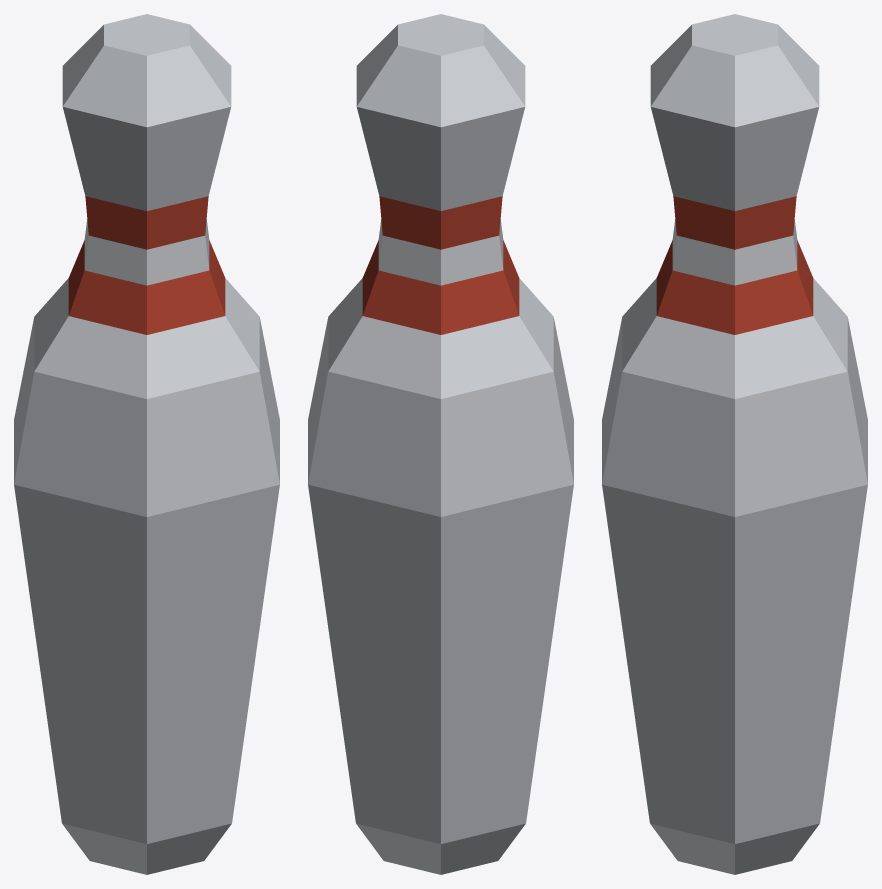
File: SM_Prop_Sign_BowlingPin_01.fbx
3 renders of one model, left to right at view 1: azimuth 30°, elevation 25°; view 2: azimuth 150°, elevation 25°; view 3: azimuth 270°, elevation 25°, orthographic.
Visible parts, largest first — view 1: SM_Prop_Sign_BowlingPin_01; view 2: SM_Prop_Sign_BowlingPin_01; view 3: SM_Prop_Sign_BowlingPin_01.
Part boxes in pixels (left/top/right/bottom): SM_Prop_Sign_BowlingPin_01: left=14, top=14, right=279, bottom=874; SM_Prop_Sign_BowlingPin_01: left=308, top=14, right=573, bottom=874; SM_Prop_Sign_BowlingPin_01: left=602, top=14, right=867, bottom=874.
Bounding box in the file's own units: 51.01 × 149 × 44.17.
